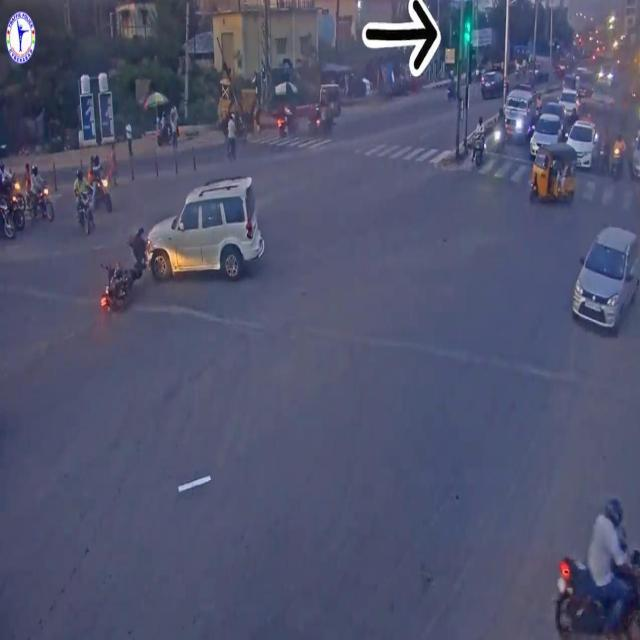accident: (99, 165, 275, 331)
non_accident: (472, 90, 625, 214), (0, 153, 57, 247), (73, 145, 115, 239)
